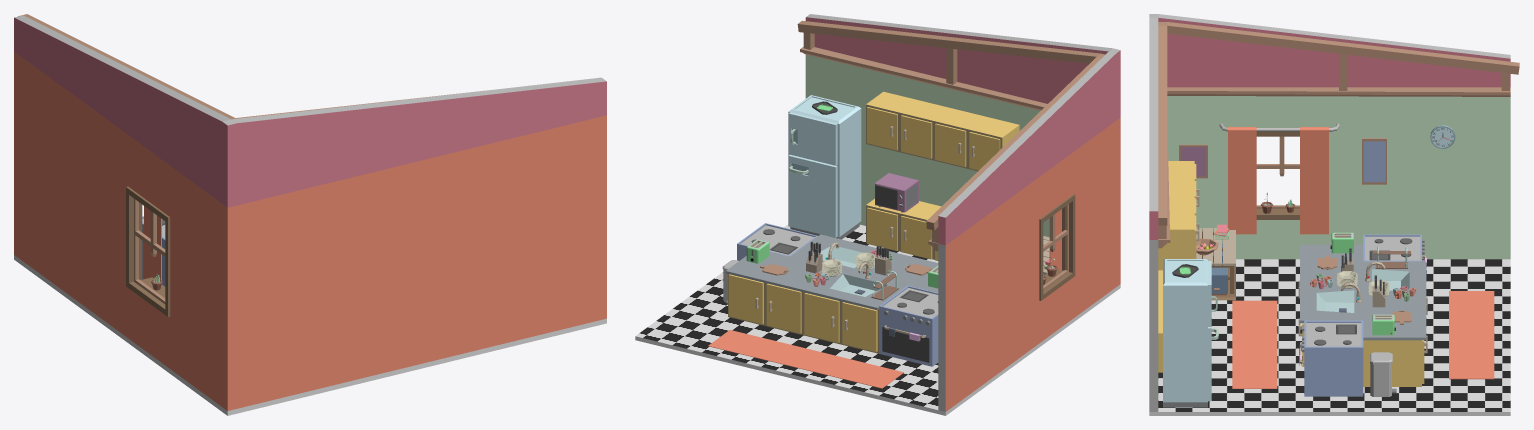
File: GetBackToTheKitchen.fbx
3 views of the same model, side by side, from view 1: azimuth 30°, elevation 25°; view 2: azimuth 150°, elevation 25°; view 3: azimuth 270°, elevation 25° (orthographic). The views are drawn at different scales.
Visible parts, largest first — view 1: Wall, Winow, Floor; view 2: Wall, Floor, Sink, Refrigerator, Sink.001, GasRange, Plane, Sink.004, Winow, Sink.003, GasRange.001, Oven (+2 smaller); view 3: Wall, Floor, Winow, Refrigerator, Sink, GasRange.001, Sink.003, Plane, Plane.001, Sink.001, Painting, Table (+8 smaller).
Part boxes in pixels (bbox=[...]): Wall: bbox=[14, 14, 606, 410]; Winow: bbox=[126, 186, 170, 316]; Floor: bbox=[14, 255, 606, 415]; Wall: bbox=[797, 14, 1120, 411]; Floor: bbox=[635, 224, 1120, 415]; Sink: bbox=[725, 252, 907, 353]; Refrigerator: bbox=[788, 95, 861, 239]; Sink.001: bbox=[866, 91, 1019, 171]; GasRange: bbox=[879, 285, 938, 366]; Plane: bbox=[708, 330, 903, 388]; Sink.004: bbox=[866, 199, 941, 260]; Winow: bbox=[1039, 194, 1075, 300]; Sink.003: bbox=[790, 234, 938, 292]; GasRange.001: bbox=[737, 223, 817, 260]; Oven: bbox=[875, 173, 918, 212]; Wall: bbox=[1149, 14, 1519, 411]; Floor: bbox=[1149, 259, 1510, 415]; Winow: bbox=[1219, 123, 1339, 234]; Refrigerator: bbox=[1163, 259, 1218, 407]; Sink: bbox=[1363, 261, 1427, 386]; GasRange.001: bbox=[1299, 320, 1363, 396]; Sink.003: bbox=[1298, 244, 1363, 366]; Plane: bbox=[1449, 291, 1494, 379]; Plane.001: bbox=[1232, 300, 1277, 388]; Sink.001: bbox=[1168, 161, 1199, 231]; Painting: bbox=[1179, 138, 1386, 184]; Table: bbox=[1196, 228, 1235, 300].
Bounding box in the file's own units: 835 × 600 × 820.
